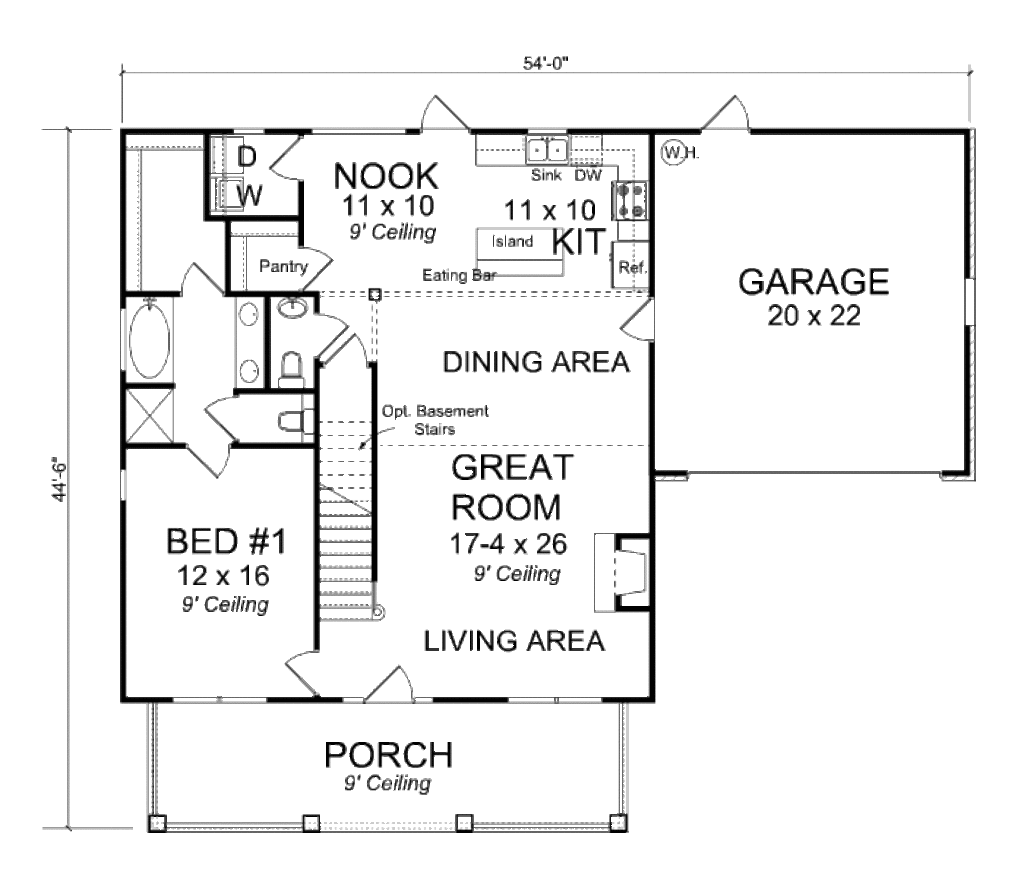door: (620, 293, 671, 352), (195, 392, 259, 438), (185, 430, 239, 482), (695, 92, 757, 137), (261, 132, 313, 182), (415, 93, 476, 134), (284, 644, 331, 694), (313, 334, 381, 368), (368, 665, 416, 701), (313, 310, 349, 356), (299, 241, 333, 286), (183, 260, 227, 293)
kitchen_bar: (607, 134, 645, 237)
large_sink: (269, 393, 319, 445), (272, 340, 307, 385)
small_sink: (228, 296, 268, 336), (229, 348, 267, 389), (273, 293, 309, 325)
stairs: (319, 402, 388, 629)
tub: (128, 294, 181, 390)
twin_sink: (499, 132, 583, 173)
window: (172, 698, 268, 706), (509, 697, 596, 702), (116, 465, 124, 509)
